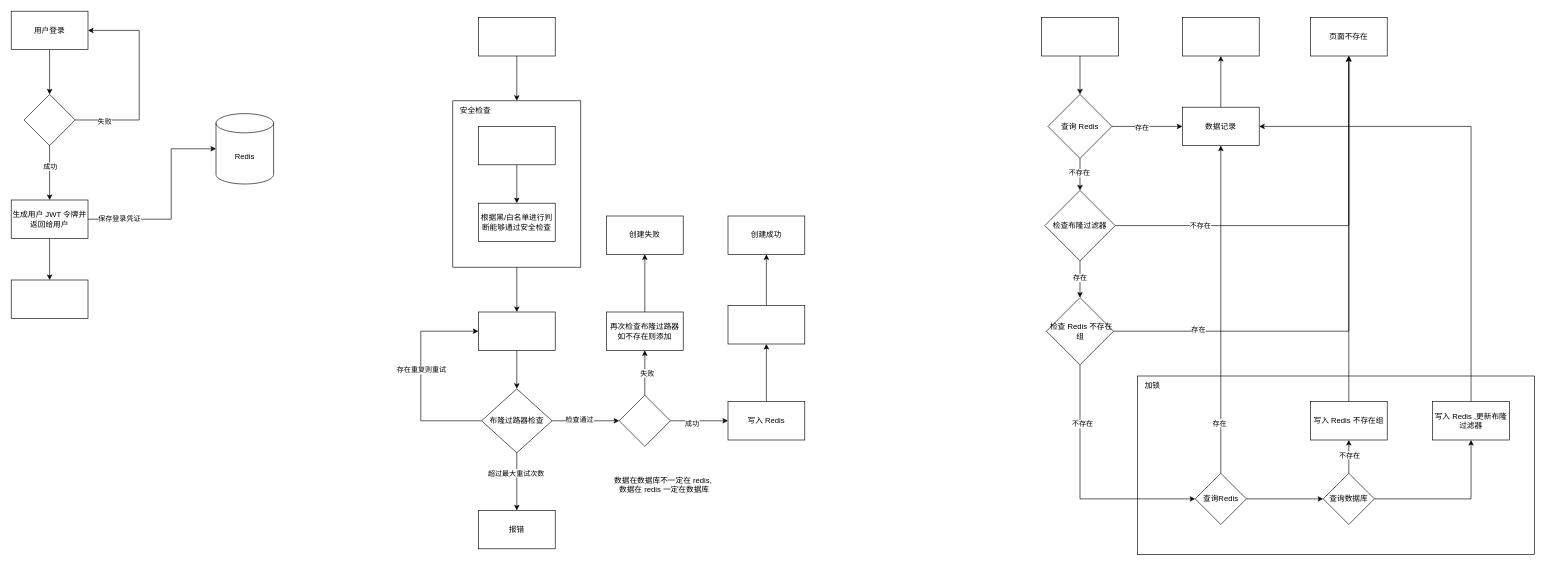
The diagram is 1546 pixels wide and 566 high, and some of its shapes have lost their labels. The shapes that lost their labels are listed below. From the top down, each one's centre as x and y in pixels, then its label:
the point at 516,36: 创建短链接
the point at 1079,36: 请求短链接
the point at 1220,36: 302 重定向到 原始链接
the point at 49,120: 服务器鉴权
the point at 516,145: 从 Redis 获取域名列表以及过滤机制
the point at 49,298: 登录成功
the point at 516,330: UUID+Murmurhash 创建短链接
the point at 766,324: 更新布隆过滤器
the point at 644,420: 插入数据库
